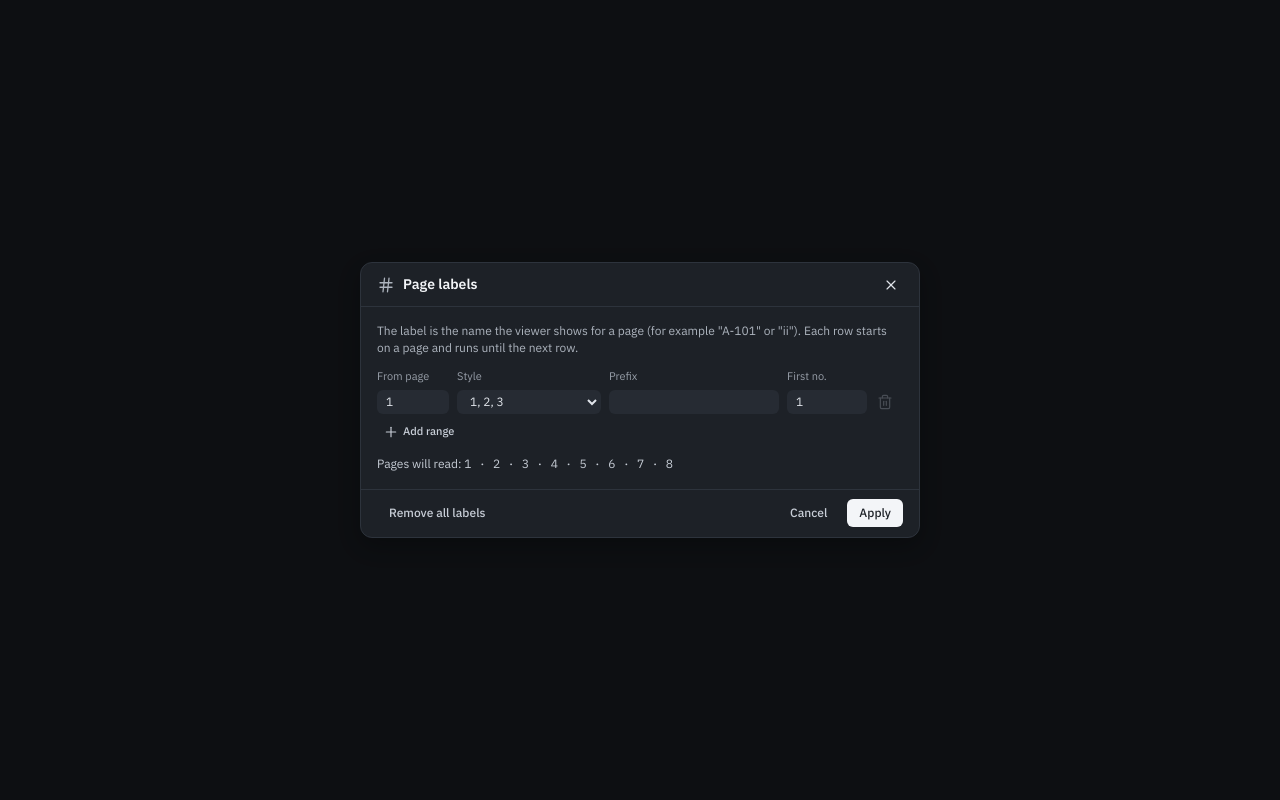
Test: Page Labels (ADR-0124) › datos no válidos se explican y desactivan Apply: página fuera, repetida o primer número menor que 1
Expected: the element with test id "labels-row-0" is shown, [377,390,903,414]
Click the button with test id "labels-add" at (419,432), box [377,420,460,444]
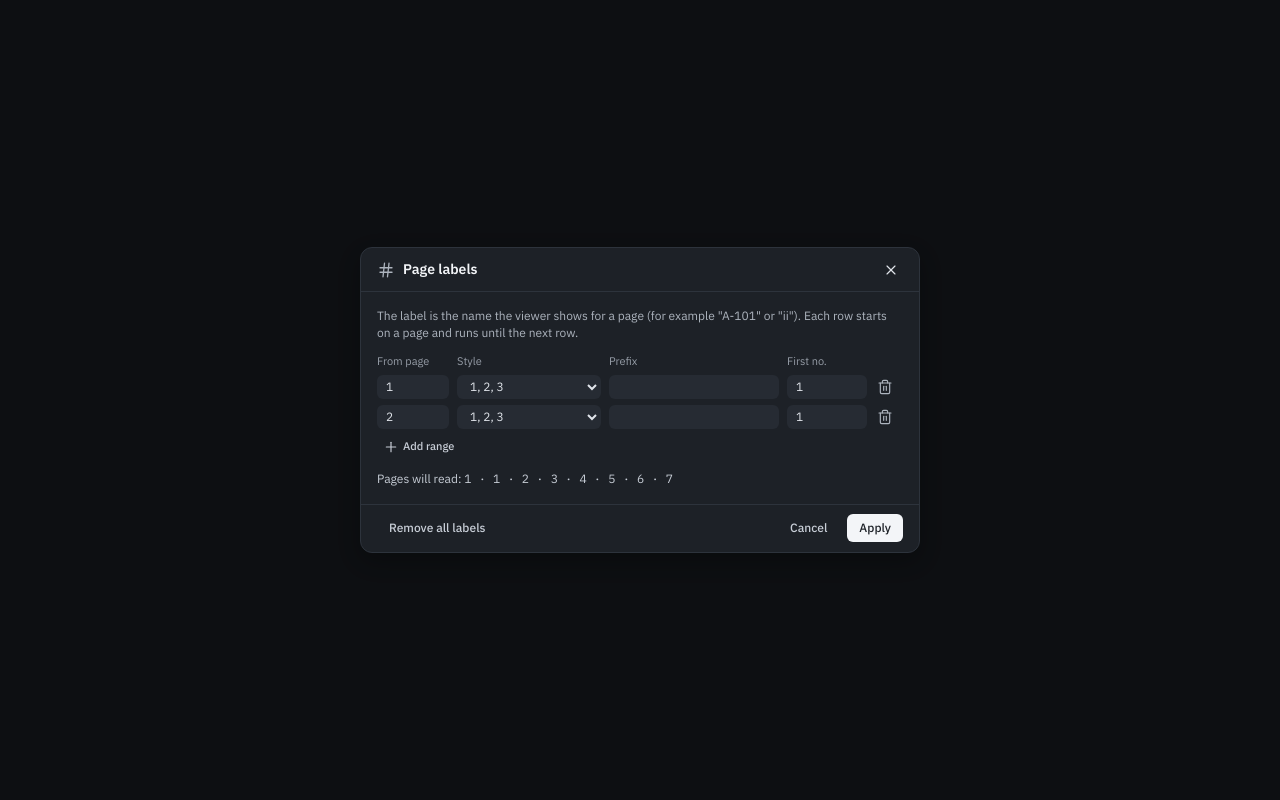
Replace the text in the number field with test id "labels-start-1" with "1" at (413,417), box [377,405,449,429]
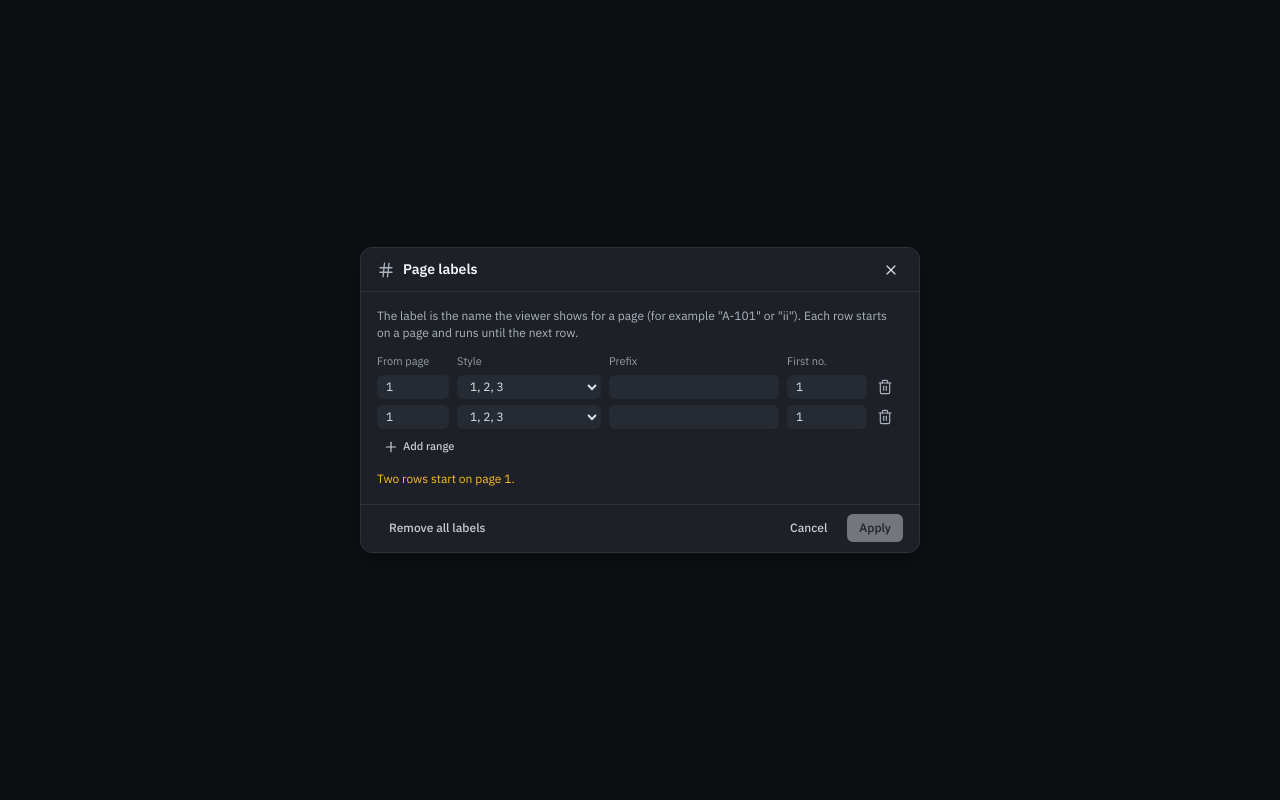
Now the text with test id "labels-problem" shows "Two rows start on page 1", box [377,471,515,486]
Now the button with test id "labels-apply" is disabled, box [847,514,903,542]
Replace the text in the number field with test id "labels-start-1" with "20" at (413,417), box [377,405,449,429]
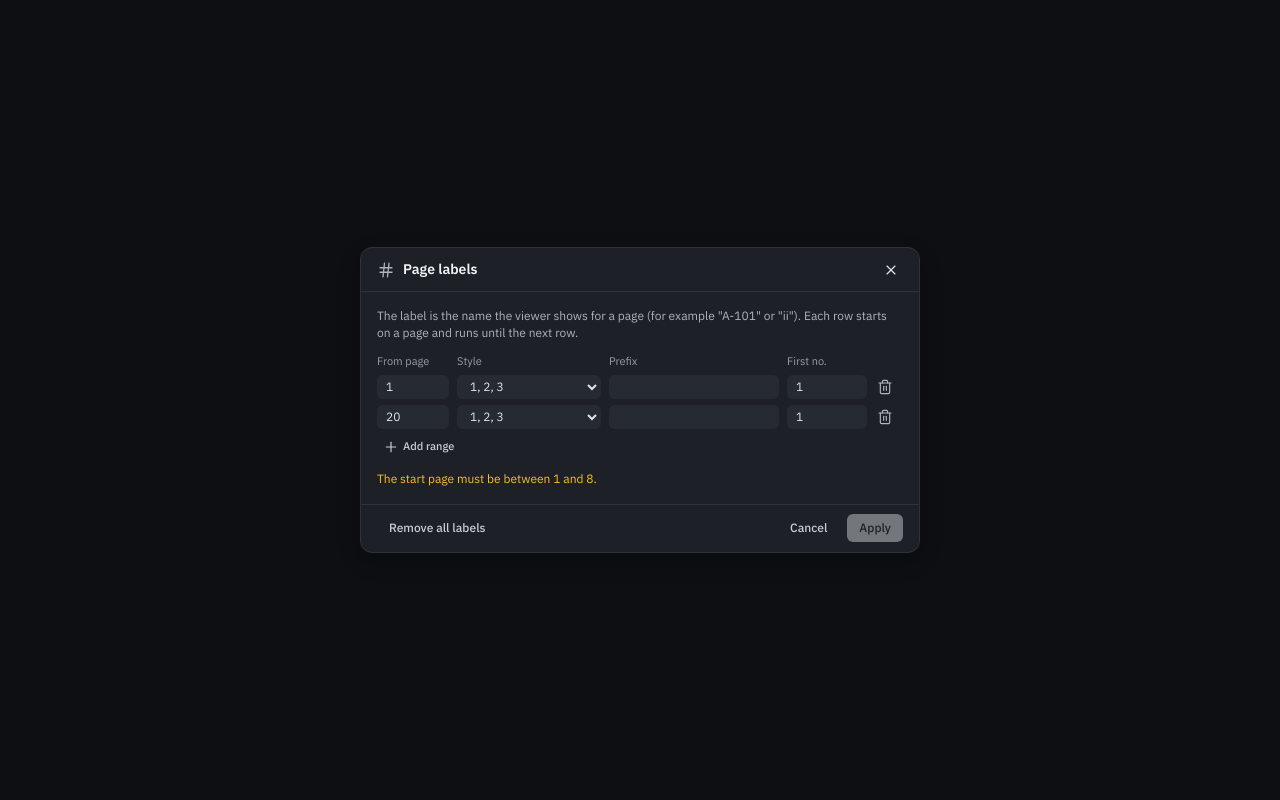
Now the text with test id "labels-problem" shows "between 1 and 8", box [377,471,597,486]
Replace the text in the number field with test id "labels-start-1" with "4" at (413,417), box [377,405,449,429]
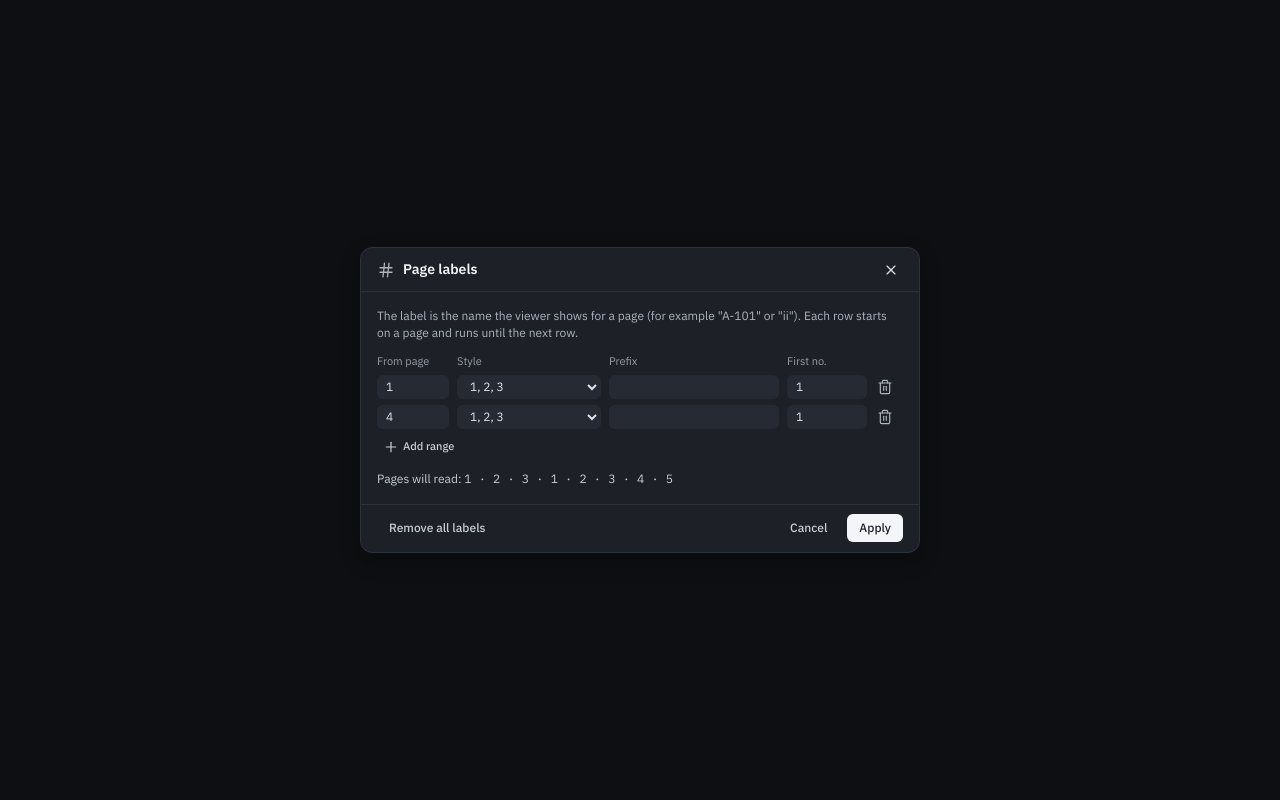
Replace the text in the number field with test id "labels-first-1" with "0" at (827,417), box [787,405,867,429]
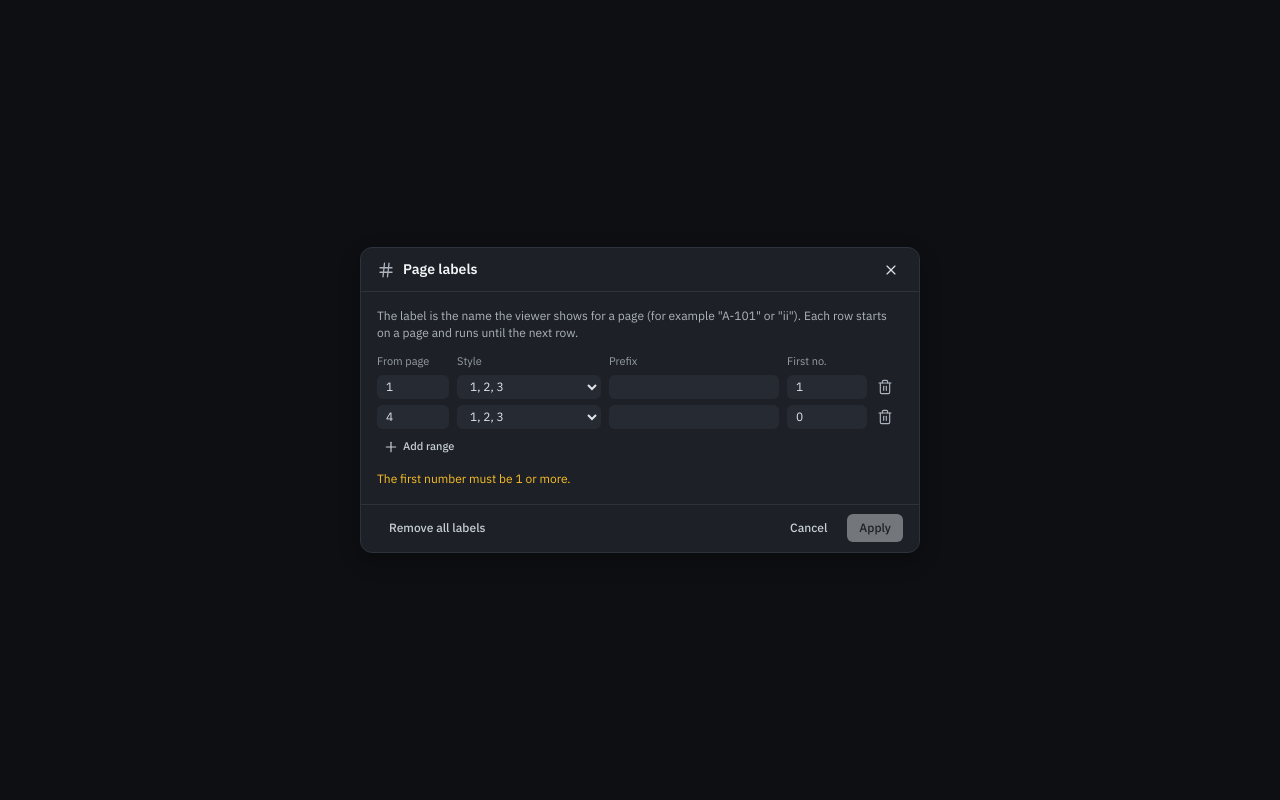
Now the text with test id "labels-problem" shows "1 or more", box [377,471,571,486]
Replace the text in the number field with test id "labels-first-1" with "1" at (827,417), box [787,405,867,429]
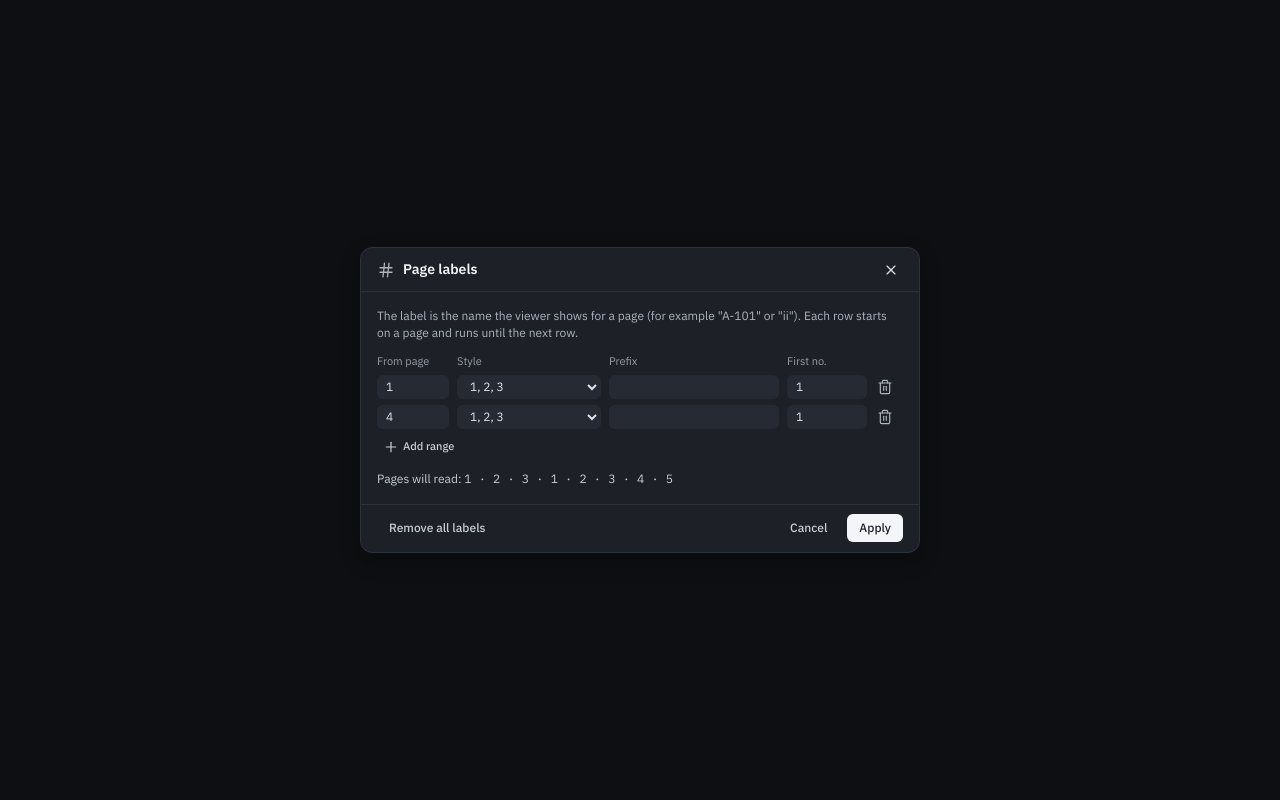
Now the button with test id "labels-apply" is enabled, box [847,514,903,542]
